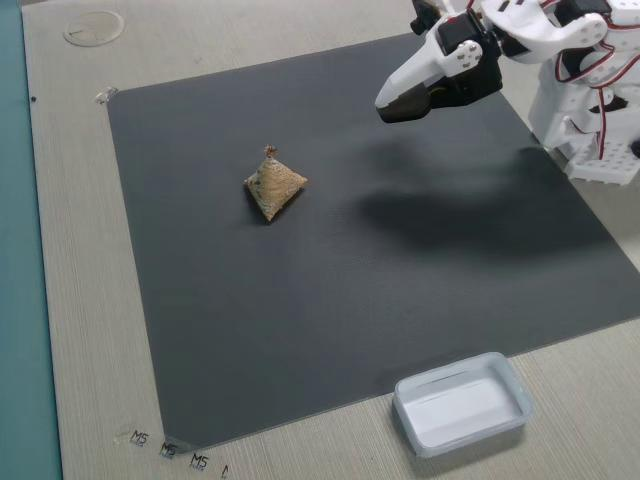gripper: (374, 9, 503, 123)
